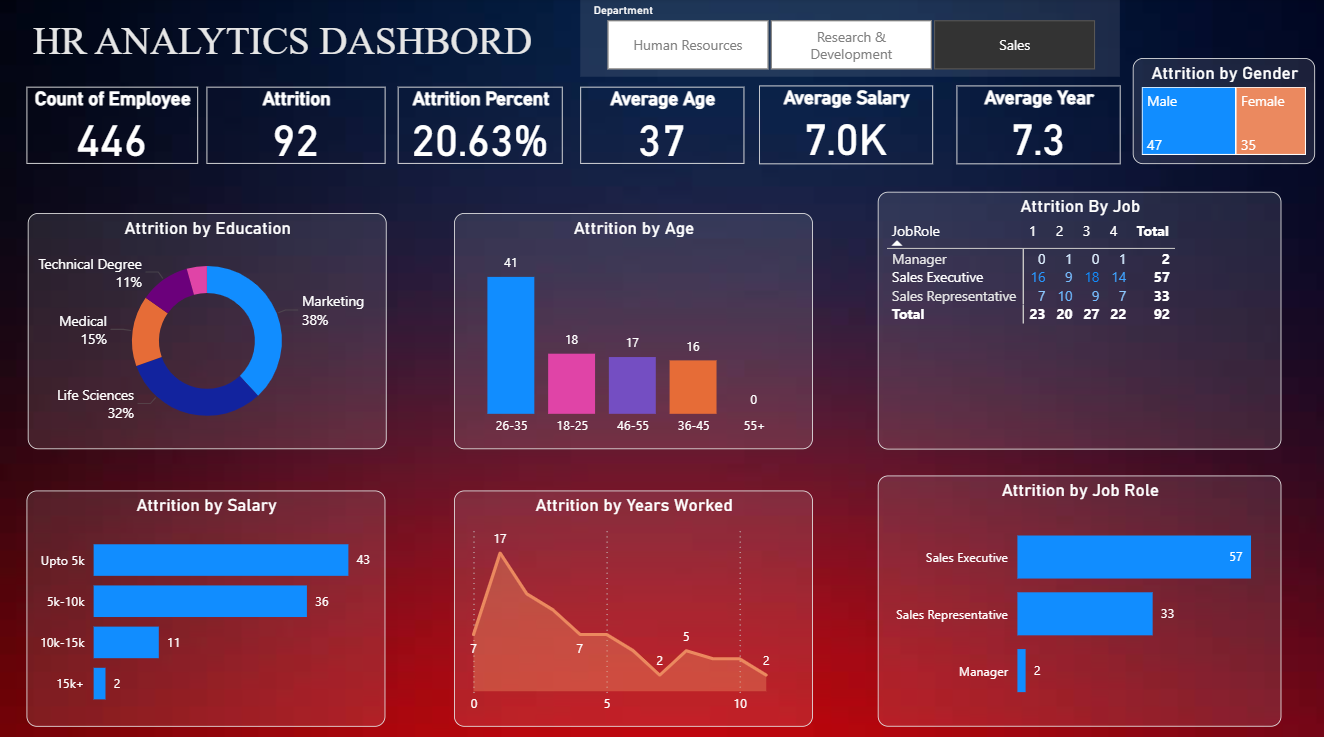

What the dashboard file says about the page in this screenshot:
{"tool":"powerbi","page":{"name":"Page 1","canvas":[1280,720],"ordinal":0},"visuals":[{"type":"card","title":"Count of Employee","fields":{"Values":["CountNonNull(HR_Analytics.EmpID)"]},"box":[26.5,85.7,165.3,74.8],"z":0},{"type":"card","title":"Attrition","fields":{"Values":["Sum(HR_Analytics.AttritionCount)"]},"box":[200.3,85.7,172.5,74.8],"z":1000},{"type":"card","title":"Attrition Percent","fields":{"Values":["HR_Analytics.AttritionRate"]},"box":[384.9,85.7,159.3,74.8],"z":2000},{"type":"card","title":"Average Age","fields":{"Values":["Avg(HR_Analytics.Age)"]},"box":[561,85.7,158,74.8],"z":3000},{"type":"card","title":"Average Salary","fields":{"Values":["Avg(HR_Analytics.MonthlyIncome)"]},"box":[733.5,84.5,167.7,76],"z":4000},{"type":"card","title":"Average Year","fields":{"Values":["Avg(HR_Analytics.YearsAtCompany)"]},"box":[924.1,84.5,158,76],"z":5000},{"type":"donutChart","title":"Attrition by Education","fields":{"Category":["HR_Analytics.EducationField"],"Y":["Sum(HR_Analytics.AttritionCount)"]},"box":[27.7,207.5,346.2,228],"z":6000},{"type":"columnChart","title":"Attrition by Age","fields":{"Category":["HR_Analytics.AgeGroup"],"Y":["Sum(HR_Analytics.AttritionCount)"]},"box":[439.1,207.5,346.2,228],"z":7000},{"type":"pivotTable","title":"Attrition By Job","fields":{"Rows":["HR_Analytics.JobRole"],"Columns":["HR_Analytics.JobSatisfaction"],"Values":["Sum(HR_Analytics.AttritionCount)"]},"box":[848.1,187,389.7,248.5],"z":8000},{"type":"barChart","title":"Attrition by Salary","fields":{"Category":["HR_Analytics.SalarySlab"],"Y":["Sum(HR_Analytics.AttritionCount)"]},"box":[26.5,475.3,346.2,228],"z":9000},{"type":"barChart","title":"Attrition by Job Role","fields":{"Category":["HR_Analytics.JobRole"],"Y":["Sum(HR_Analytics.AttritionCount)"]},"box":[848.1,460.9,389.7,242.5],"z":10000},{"type":"areaChart","title":"Attrition by Years Worked","fields":{"Category":["HR_Analytics.YearsAtCompany"],"Y":["Sum(HR_Analytics.AttritionCount)"]},"box":[439.1,475.3,346.2,228],"z":11000},{"type":"treemap","title":"Attrition by Gender","fields":{"Group":["HR_Analytics.Gender"],"Values":["Sum(HR_Analytics.AttritionCount)"]},"box":[1094.2,57.9,176.1,102.5],"z":12000},{"type":"slicer","fields":{"Values":["HR_Analytics.Department"]},"box":[561,0,521.2,76],"z":13000},{"type":"textbox","box":[27.7,14.5,492.2,61.5],"z":14000}]}

Visuals, with their boxes in screenshot pixels (x1, y1, x2, y2), scaled from the page's 1280x720 canvas onto the 1324x737 screenshot:
"Count of Employee" card: l=27, t=88, r=198, b=164
"Attrition" card: l=207, t=88, r=386, b=164
"Attrition Percent" card: l=398, t=88, r=563, b=164
"Average Age" card: l=580, t=88, r=744, b=164
"Average Salary" card: l=759, t=86, r=932, b=164
"Average Year" card: l=956, t=86, r=1119, b=164
"Attrition by Education" donutChart: l=29, t=212, r=387, b=446
"Attrition by Age" columnChart: l=454, t=212, r=812, b=446
"Attrition By Job" pivotTable: l=877, t=191, r=1280, b=446
"Attrition by Salary" barChart: l=27, t=487, r=386, b=720
"Attrition by Job Role" barChart: l=877, t=472, r=1280, b=720
"Attrition by Years Worked" areaChart: l=454, t=487, r=812, b=720
"Attrition by Gender" treemap: l=1132, t=59, r=1314, b=164
slicer - HR_Analytics.Department: l=580, t=0, r=1119, b=78
textbox: l=29, t=15, r=538, b=78
